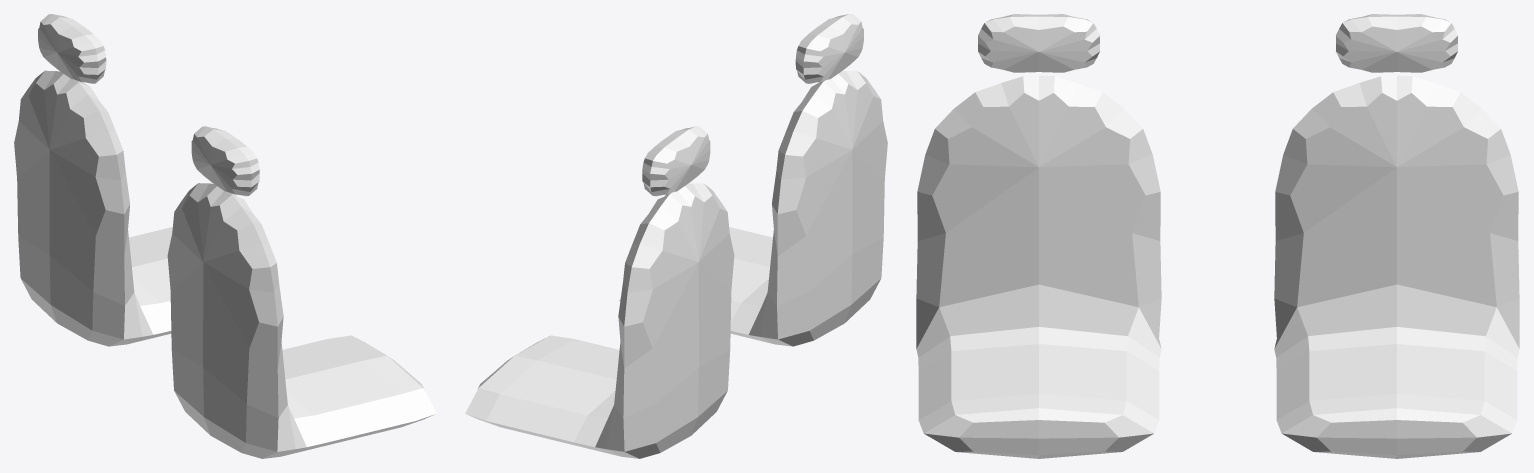
Rendered from Seats.glb.
3 renders of one model, left to right at view 1: azimuth 30°, elevation 25°; view 2: azimuth 150°, elevation 25°; view 3: azimuth 270°, elevation 25°, orthographic. The views are drawn at different scales.
Visible parts, largest first — view 1: Seat1.008; view 2: Seat1.008; view 3: Seat1.008.
Part boxes in pixels (x1,y1,x2,y2): Seat1.008: [14, 14, 436, 458]; Seat1.008: [465, 14, 887, 458]; Seat1.008: [916, 14, 1519, 458].
Size of the model in its own units: 0.0203 by 0.0303 by 0.0472.
Materials: 1 (1 with a texture image).
